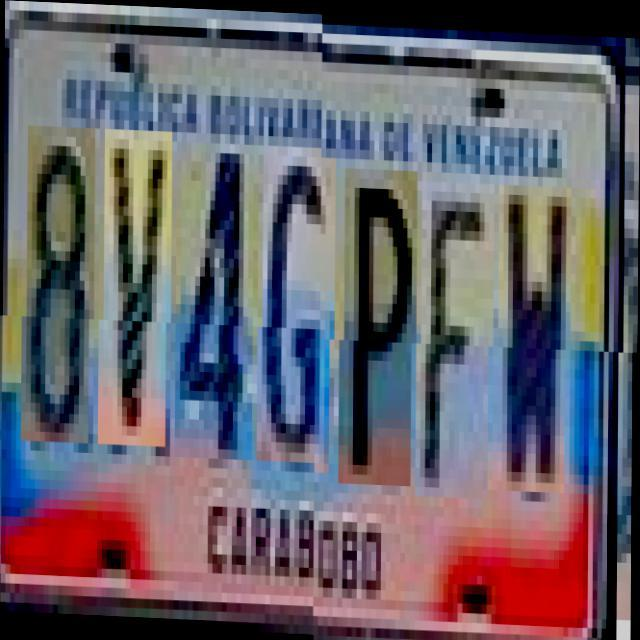4: (180, 150, 259, 468)
8: (26, 135, 96, 452)
F: (420, 177, 494, 495)
G: (262, 152, 336, 470)
P: (343, 165, 418, 483)
V: (104, 138, 172, 455)
W: (498, 180, 572, 488)
